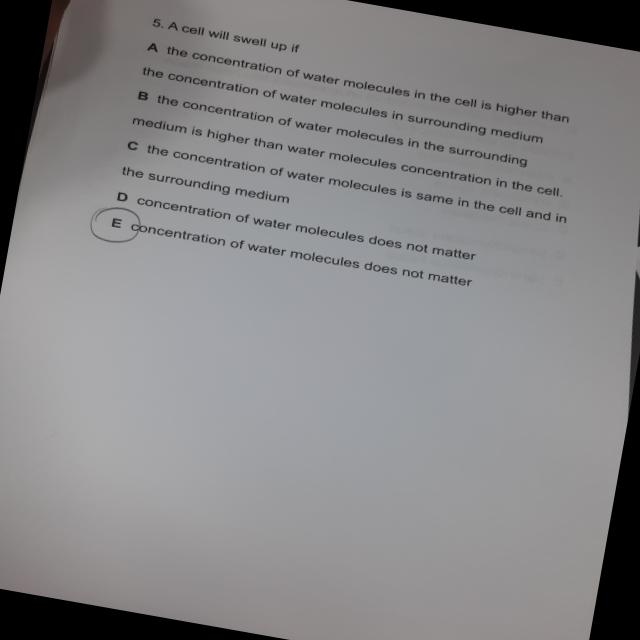E: (86, 203, 149, 252)
